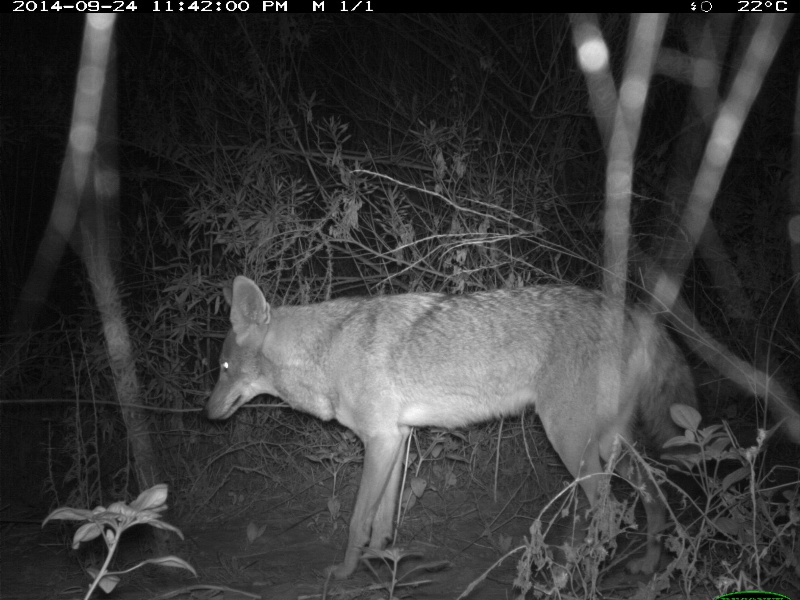coyote: (200, 273, 703, 581)
